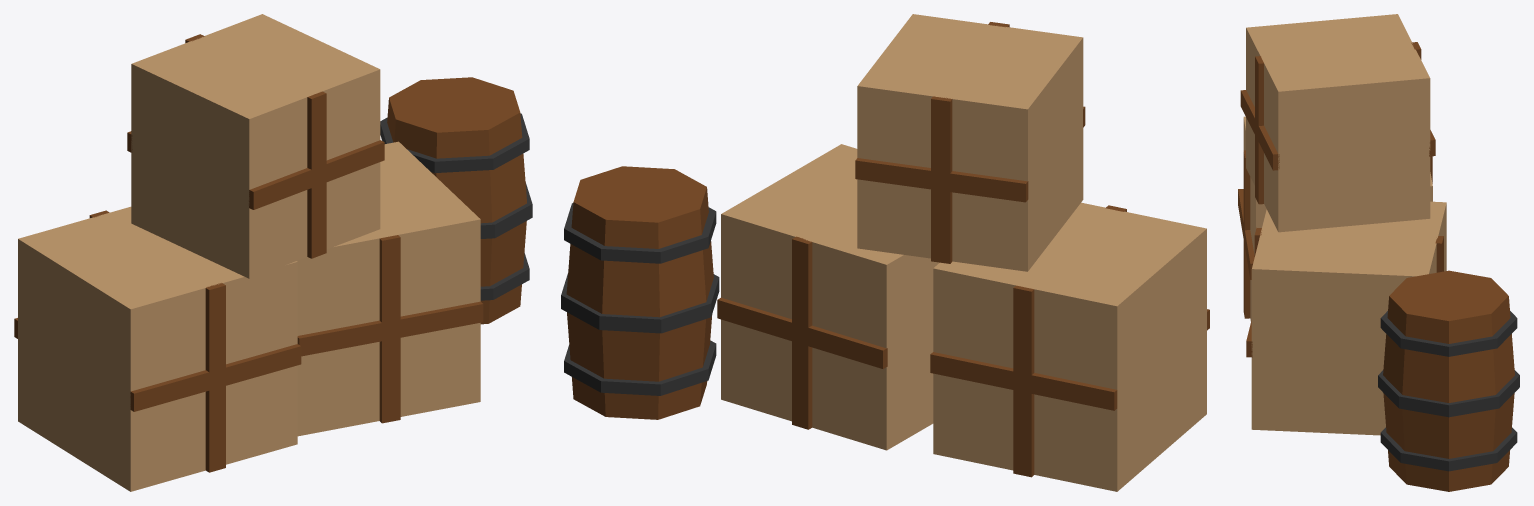
The model's file is Prop_CrateStack.fbx.
3 views of the same model, side by side, from view 1: azimuth 30°, elevation 25°; view 2: azimuth 150°, elevation 25°; view 3: azimuth 270°, elevation 25° (orthographic). The views are drawn at different scales.
Parts seen in each view (by area): view 1: Prop_CrateStack; view 2: Prop_CrateStack; view 3: Prop_CrateStack.
Boxes of the visible parts, bbox=[...] form: Prop_CrateStack: bbox=[14, 14, 532, 491]; Prop_CrateStack: bbox=[561, 14, 1209, 491]; Prop_CrateStack: bbox=[1238, 14, 1519, 491].
Bounding box in the file's own units: 2.4 × 1.5 × 1.27.
